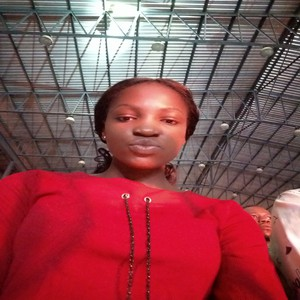Fulokoja_female_student: (98, 76, 197, 300)
